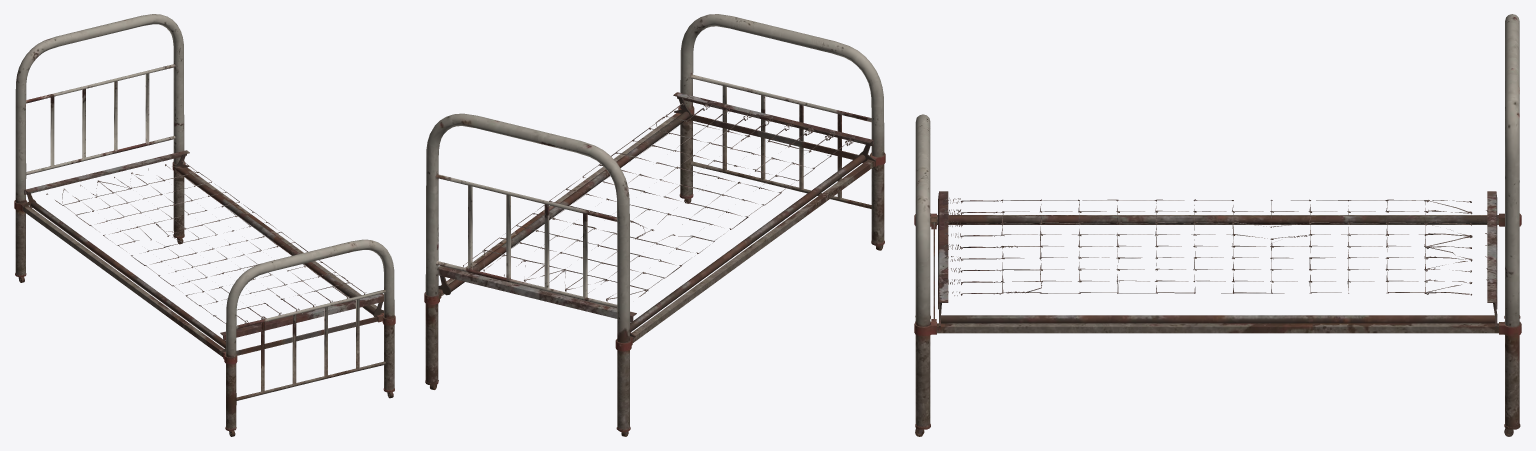
File: old_bed_frame.glb
The picture shows the model from 3 angles, left to right: view 1: azimuth 30°, elevation 25°; view 2: azimuth 150°, elevation 25°; view 3: azimuth 270°, elevation 25°; orthographic projection. The views are drawn at different scales.
Parts seen in each view (by area): view 1: old_bed_frame; view 2: old_bed_frame; view 3: old_bed_frame.
Part boxes in pixels (left/top/right/bottom): old_bed_frame: left=14, top=14, right=395, bottom=436; old_bed_frame: left=424, top=14, right=885, bottom=436; old_bed_frame: left=914, top=14, right=1521, bottom=436.
Size of the model in its own units: 0.9047 by 1.2 by 2.
Materials: 1 (1 with a texture image).
